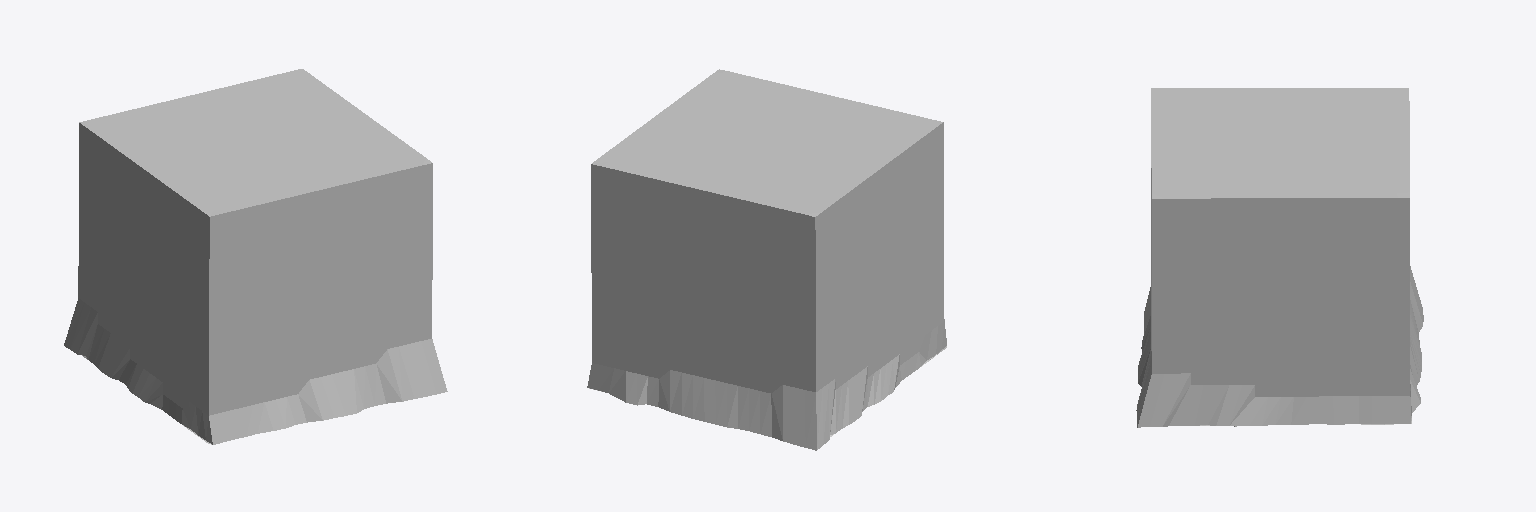
The model's file is mod0196.obj.
3 renders of one model, left to right at view 1: azimuth 30°, elevation 25°; view 2: azimuth 150°, elevation 25°; view 3: azimuth 270°, elevation 25°, orthographic.
Parts seen in each view (by area): view 1: Box001; view 2: Box001; view 3: Box001.
Boxes of the visible parts, x1=… form: Box001: x1=64, y1=69, x2=447, y2=444; Box001: x1=587, y1=69, x2=946, y2=450; Box001: x1=1136, y1=88, x2=1423, y2=427.
Size of the model in its own units: 0.5799 by 0.5223 by 0.5979.